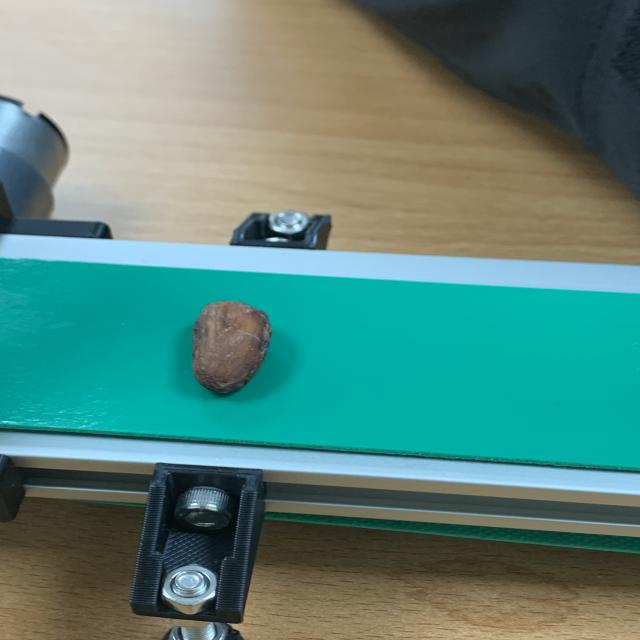Fine_cocoabeans: (126, 271, 346, 416)
